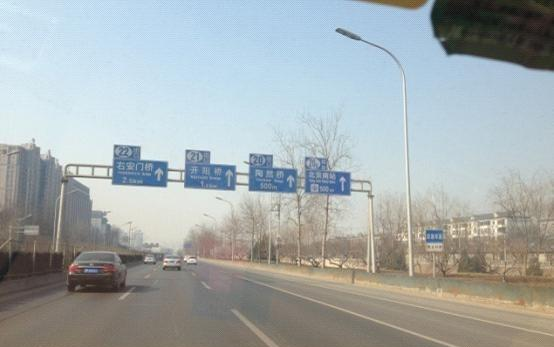car: (66, 250, 128, 293), (162, 254, 183, 271), (143, 254, 157, 266), (186, 255, 199, 266)
